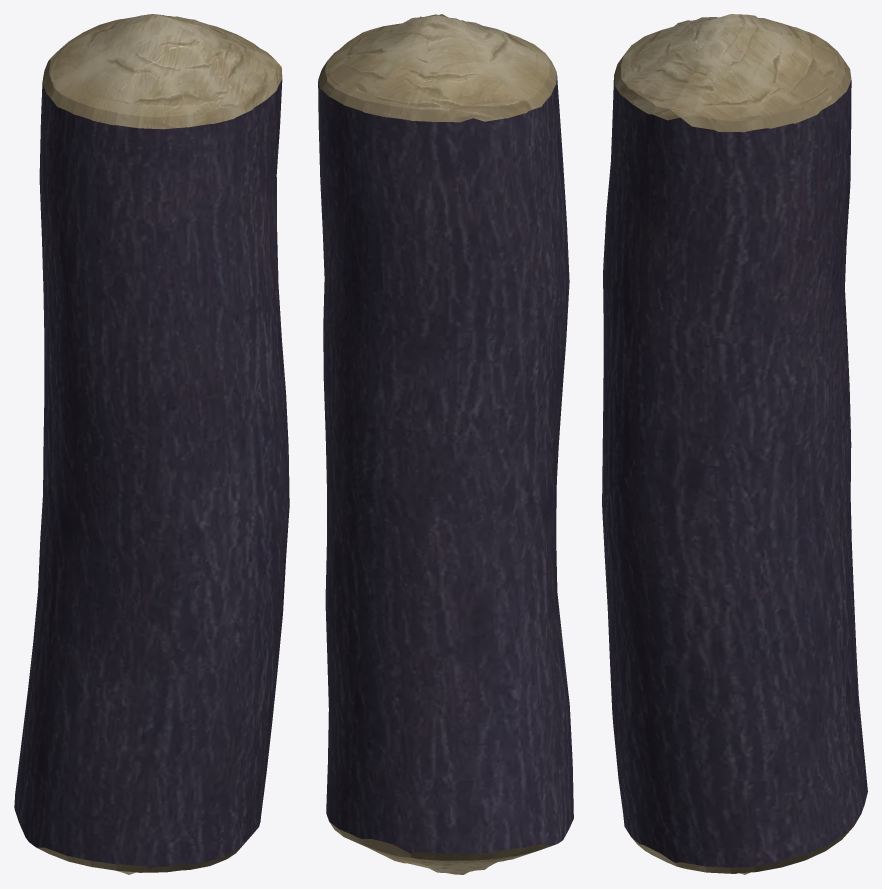
3 views of the same model, side by side, from view 1: azimuth 30°, elevation 25°; view 2: azimuth 150°, elevation 25°; view 3: azimuth 270°, elevation 25° (orthographic).
Parts seen in each view (by area): view 1: SM_GF_Oak_Tree_01_quarter_04_LOD0; view 2: SM_GF_Oak_Tree_01_quarter_04_LOD0; view 3: SM_GF_Oak_Tree_01_quarter_04_LOD0.
Part boxes in pixels (x1,y1,x2,y2): SM_GF_Oak_Tree_01_quarter_04_LOD0: (14, 14, 289, 874); SM_GF_Oak_Tree_01_quarter_04_LOD0: (318, 14, 573, 874); SM_GF_Oak_Tree_01_quarter_04_LOD0: (602, 14, 867, 874).
Bounding box in the file's own units: 0.778 × 2.75 × 0.769.
1 material, 1 textured.
